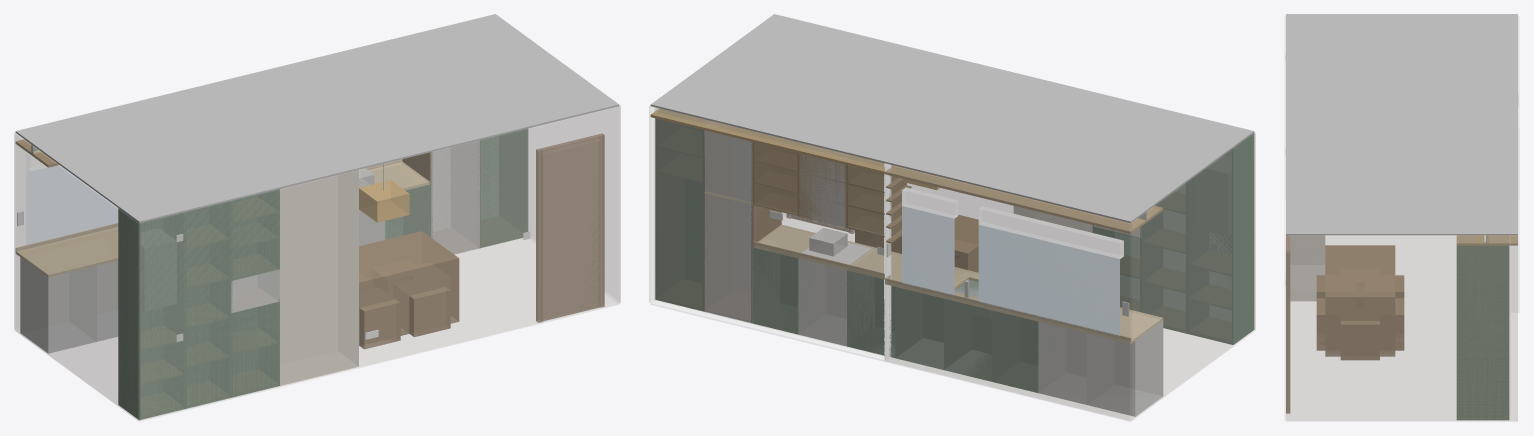
File: cocina.obj
3 renders of one model, left to right at view 1: azimuth 30°, elevation 25°; view 2: azimuth 150°, elevation 25°; view 3: azimuth 270°, elevation 25°, orthographic. The views are drawn at different scales.
Parts seen in each view (by area): view 1: Pared Sur, Techo, Pared Oeste, Columna azulejo, Caldera, Suelo, Puerta, Despensa Sur, Mesa comedor, Lavadora, Pared Este, Escobero (+17 smaller); view 2: Techo, Pared Norte izq, Pared Norte der, Pared Oeste, Caldera, Ventana grande, Escobero, Frigorífico, Cajones, Vuelo, Suelo, Lavadora (+26 smaller); view 3: Techo, Pared Este, Suelo, Escobero, Mesa comedor, Columna azulejo, Silla 6, Marco puerta der, Pared Sur, Vuelo, Pared Norte izq, Silla 2 (+4 smaller).
Part boxes in pixels (left/top/right/bottom): Pared Sur: left=139, top=106, right=619, bottom=420; Techo: left=15, top=14, right=619, bottom=223; Pared Oeste: left=14, top=133, right=138, bottom=420; Columna azulejo: left=280, top=169, right=358, bottom=385; Caldera: left=118, top=208, right=185, bottom=420; Suelo: left=16, top=238, right=618, bottom=421; Puerta: left=542, top=140, right=600, bottom=321; Despensa Sur: left=185, top=201, right=231, bottom=408; Mesa comedor: left=359, top=231, right=459, bottom=345; Lavadora: left=20, top=257, right=96, bottom=353; Pared Este: left=529, top=105, right=620, bottom=302; Escobero: left=480, top=129, right=528, bottom=247; Techo: left=650, top=14, right=1254, bottom=223; Pared Norte izq: left=884, top=163, right=1130, bottom=420; Pared Norte der: left=654, top=107, right=884, bottom=355; Pared Oeste: left=1131, top=133, right=1255, bottom=420; Caldera: left=1187, top=133, right=1254, bottom=344; Ventana grande: left=979, top=225, right=1119, bottom=335; Escobero: left=655, top=119, right=703, bottom=311; Frigorífico: left=704, top=130, right=752, bottom=322; Cajones: left=847, top=270, right=943, bottom=369; Vuelo: left=650, top=108, right=1163, bottom=233; Suelo: left=651, top=215, right=1253, bottom=421; Lavadora: left=1087, top=320, right=1163, bottom=416; Techo: left=1286, top=14, right=1517, bottom=235; Pared Este: left=1286, top=235, right=1517, bottom=420; Suelo: left=1286, top=236, right=1517, bottom=421; Escobero: left=1456, top=245, right=1509, bottom=420; Mesa comedor: left=1325, top=245, right=1395, bottom=356; Columna azulejo: left=1290, top=235, right=1325, bottom=301; Silla 6: left=1340, top=321, right=1379, bottom=360; Marco puerta der: left=1286, top=250, right=1290, bottom=413; Pared Sur: left=1284, top=16, right=1285, bottom=419; Vuelo: left=1456, top=235, right=1517, bottom=245; Pared Norte izq: left=1518, top=16, right=1519, bottom=312; Silla 2: left=1316, top=298, right=1325, bottom=350.
Size of the model in its own units: 5.98 by 2.37 by 2.69.
